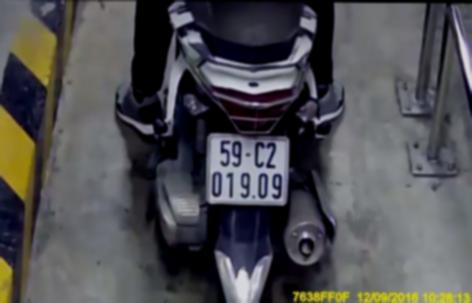License_Plate: (196, 127, 295, 213)
